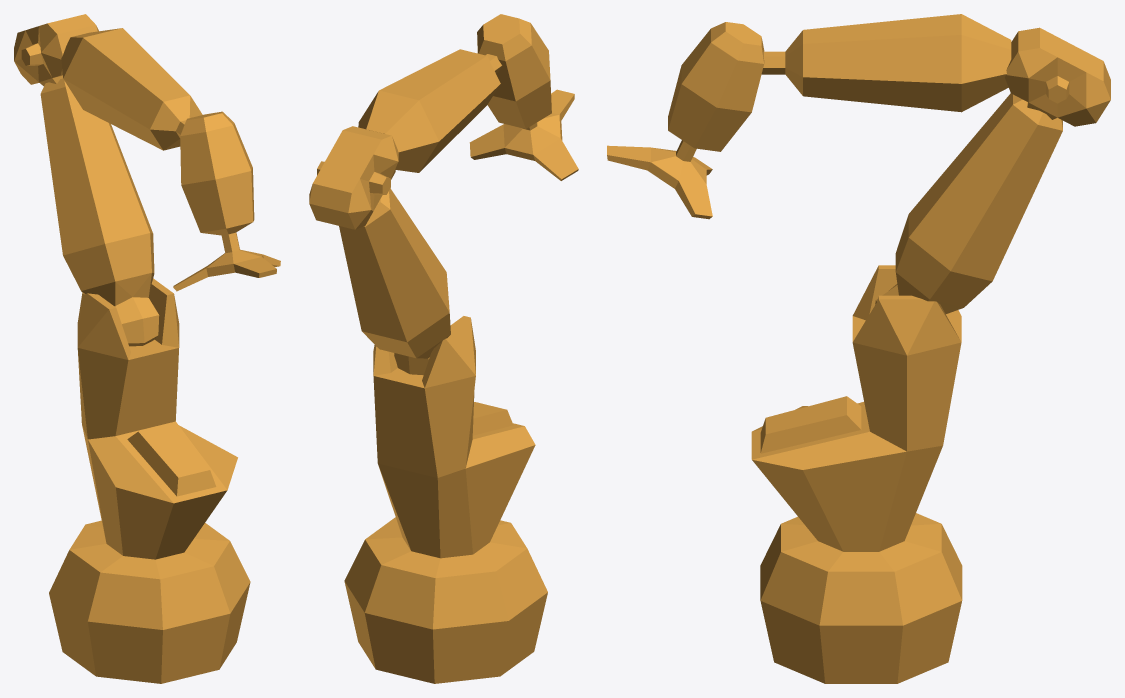
The model's file is scifi-robotic-arm.fbx.
The picture shows the model from 3 angles, left to right: view 1: azimuth 30°, elevation 25°; view 2: azimuth 150°, elevation 25°; view 3: azimuth 270°, elevation 25°; orthographic projection. The views are drawn at different scales.
Parts seen in each view (by area): view 1: scifi-robotic-arm-base, scifi-robotic-arm-first, scifi-robotic-arm-third, scifi-robotic-arm-hand, scifi-robotic-arm-second; view 2: scifi-robotic-arm-base, scifi-robotic-arm-first, scifi-robotic-arm-hand, scifi-robotic-arm-third, scifi-robotic-arm-second; view 3: scifi-robotic-arm-base, scifi-robotic-arm-first, scifi-robotic-arm-third, scifi-robotic-arm-hand, scifi-robotic-arm-second.
Part boxes in pixels (x1,y1,x2,y2): scifi-robotic-arm-base: (49,278,250,683); scifi-robotic-arm-first: (40,78,159,346); scifi-robotic-arm-third: (61,28,202,150); scifi-robotic-arm-hand: (173,111,280,291); scifi-robotic-arm-second: (14,14,98,86); scifi-robotic-arm-base: (344,316,547,683); scifi-robotic-arm-first: (339,188,450,375); scifi-robotic-arm-hand: (469,14,578,180); scifi-robotic-arm-third: (358,49,501,172); scifi-robotic-arm-second: (309,126,398,229); scifi-robotic-arm-base: (751,265,962,683); scifi-robotic-arm-first: (875,93,1062,313); scifi-robotic-arm-third: (761,14,1011,112); scifi-robotic-arm-hand: (607,22,764,219); scifi-robotic-arm-second: (1005,27,1110,126).
Size of the model in its own units: 0.5916 by 2.01 by 1.48.
